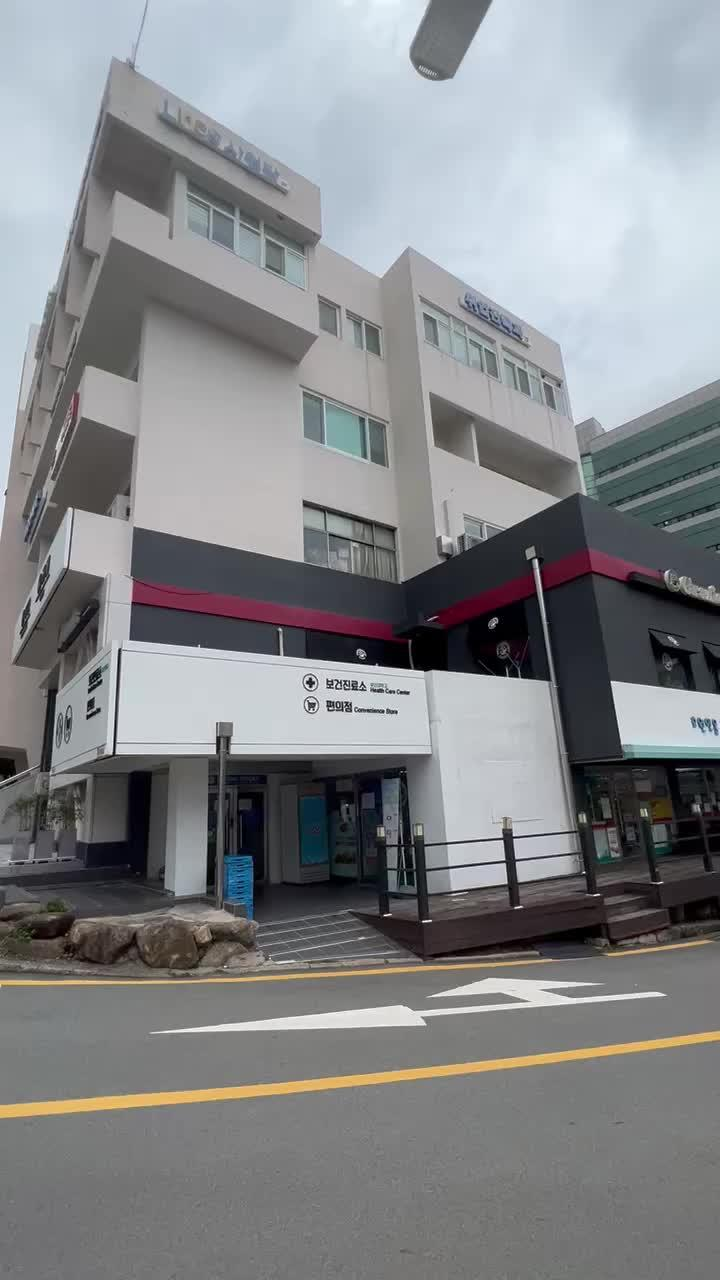building: (0, 84, 626, 880)
